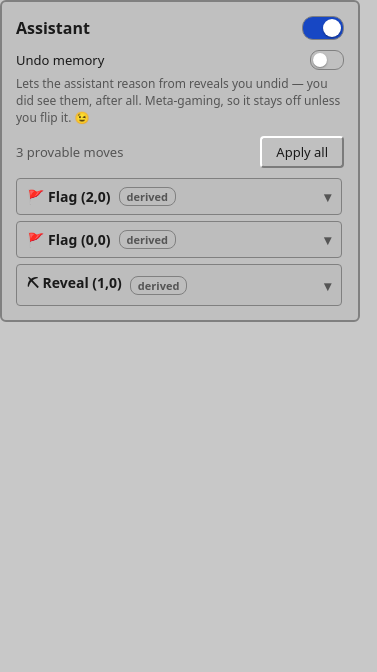
AssistantPanel › alternative proofs are collapsed behind an expando
Click the text "🚩 Flag (0,0)" at (69, 240), box [27,230,110,249]
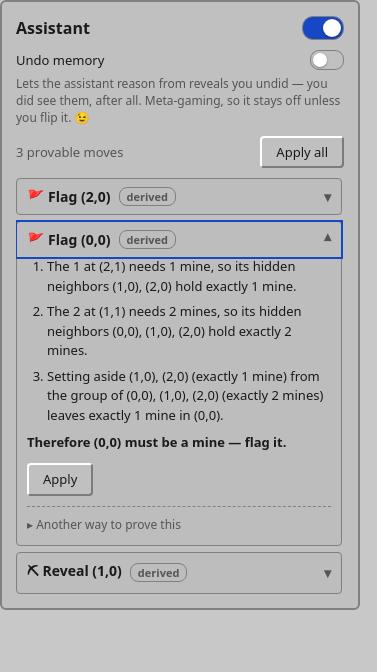
Now the button "▸ Another way to prove this" is shown
Click the button "▸ Another way to prove this" at (104, 525), box [27,516,181,534]
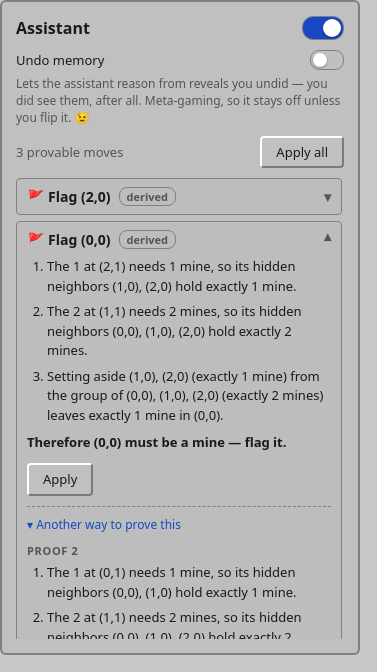
Now the text "Proof 2" is shown, box [27,543,78,558]
